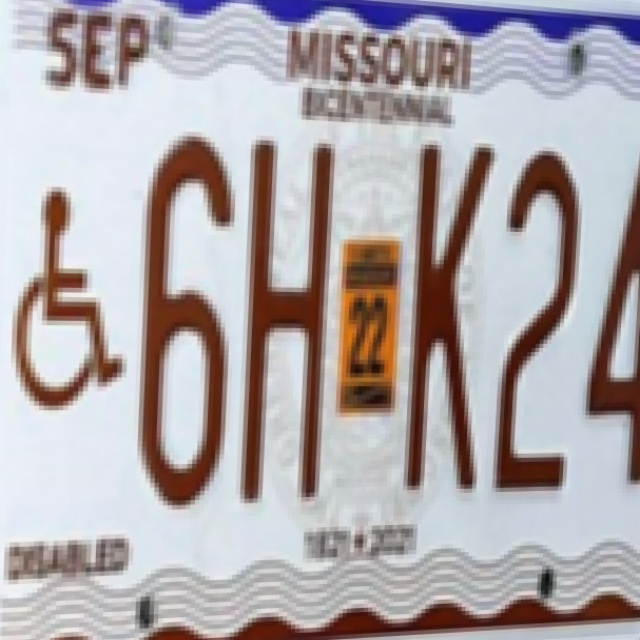ISA: (6, 184, 131, 412)
